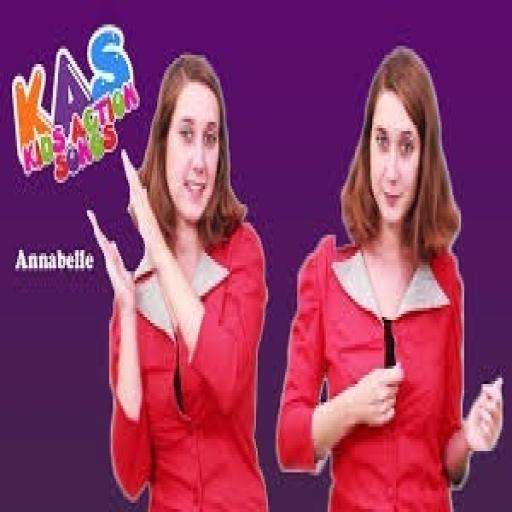clapping: (275, 43, 505, 509), (85, 49, 270, 509)
